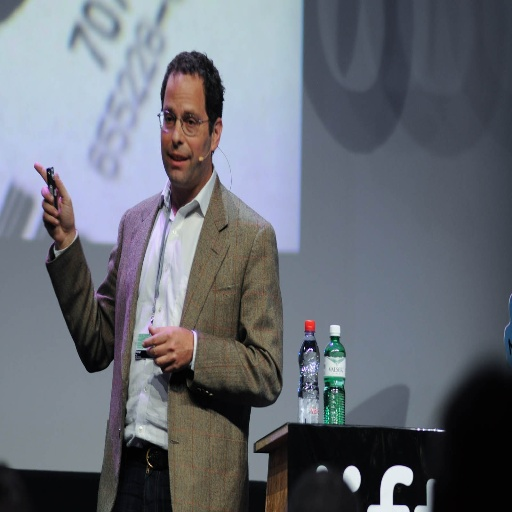hand: (30, 163, 78, 253), (140, 324, 195, 382)
